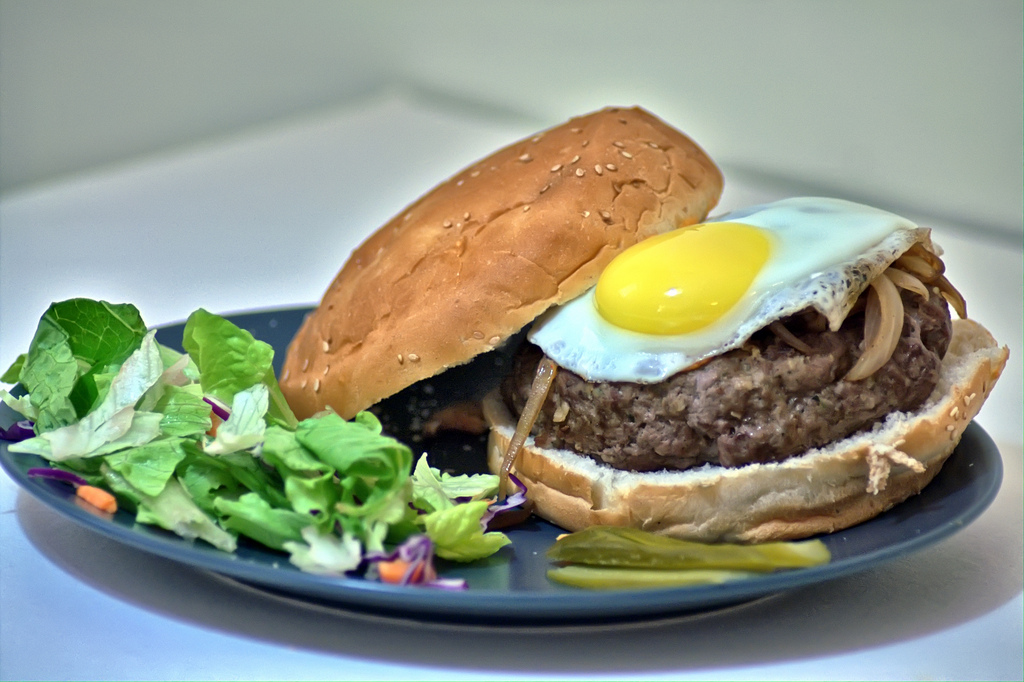chopped lettuce: (11, 302, 509, 582)
slice of bread: (290, 89, 717, 410), (482, 377, 1024, 533), (536, 219, 910, 370)
